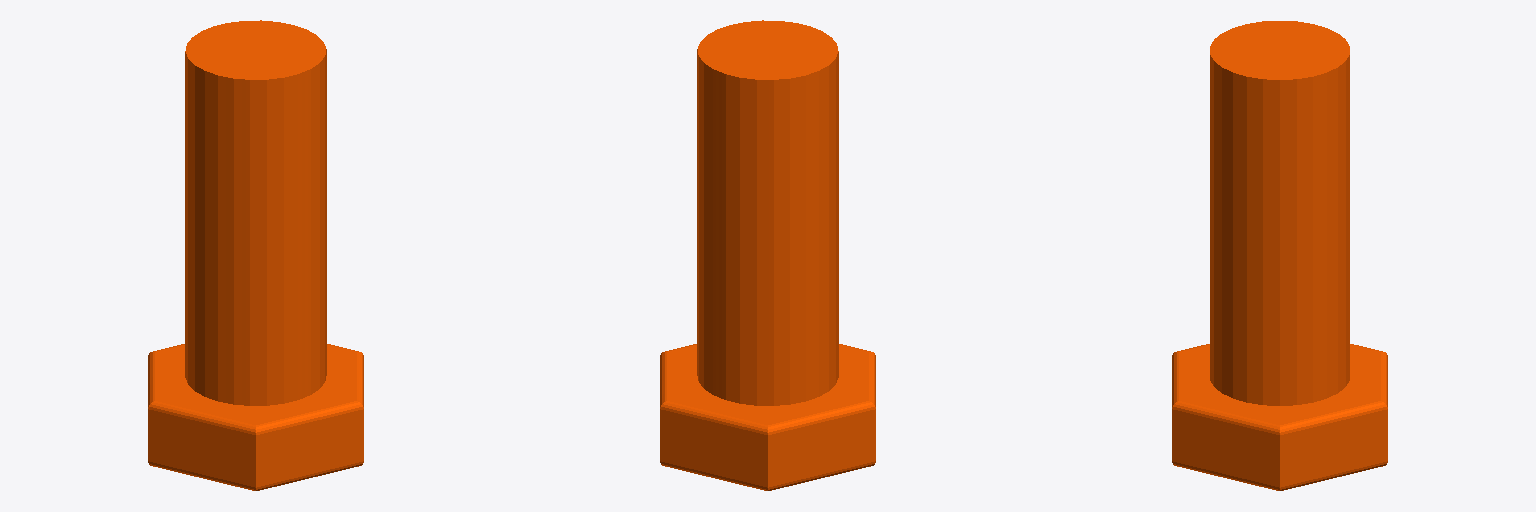
robot.urdf — top_watertight_tiny:
<?xml version="1.0" ?>
<robot name="top_watertight_tiny">
   <material name="obj_color">
      <color rgba="1.0 0.423529411765 0.0392156862745 1.0"/>
   </material>
   <link name="top">
      <inertial>
         <origin rpy="1.250202220857222e-05 0.000275756623334001 0.0002757841522195322" xyz="-3.31938556459921e-06 5.717349415173197e-05 0.01692686433493581"/>
         <mass value="0.1134705295674991"/>
         <inertia ixx="0.0002757838839417146" ixy="-2.586360634905081e-09" ixz="-8.339839366526162e-08" iyy="0.0002757568537542385" iyz="-5.487734447165066e-08" izz="1.250206006615228e-05"/>
      </inertial>
      <visual>
         <origin rpy="0 0 0" xyz="0 0 0"/>
         <geometry>
            <mesh filename="top_watertight_tiny.stl" scale="1 1 1"/>
         </geometry>
         <material name="obj_color"/>
      </visual>
      <collision>
         <origin rpy="0 0 0" xyz="0 0 0"/>
         <geometry>
            <mesh filename="top_watertight_tiny.obj" scale="1 1 1"/>
         </geometry>
      </collision>
   </link>
   <link name="bottom">
      <inertial>
         <origin rpy="0.0002025826276793854 0.001017762609016683 0.001017763250977698" xyz="-3.518152725928599e-19 -7.036305451857197e-19 -0.0432377156911104"/>
         <mass value="0.3932424925688408"/>
         <inertia ixx="0.001017762609016833" ixy="-3.100208399346948e-13" ixz="-9.355533426939436e-22" iyy="0.001017763250977548" iyz="2.579863625825259e-20" izz="0.0002025826276793854"/>
      </inertial>
      <visual>
         <origin rpy="0 0 0" xyz="0 0 0"/>
         <geometry>
            <mesh filename="bottom_watertight_tiny.stl" scale="1 1 1"/>
         </geometry>
         <material name="obj_color"/>
      </visual>
   </link>
   <link name="world"/>
   <joint name="world_to_base" type="fixed">
      <origin xyz="0 0 0"/>
      <axis xyz="0 0 0"/>
      <parent link="world"/>
      <child link="bottom"/>
   </joint>
   <joint name="rotation" type="revolute">
      <origin xyz="0 0 0"/>
      <axis xyz="0 0 -1"/>
      <parent link="bottom"/>
      <child link="top"/>
      <dynamics damping="1.0" friction="1.0"/>
      <limit effort="0.1" velocity="0.1" lower="0" upper="0.001"/>
   </joint>
</robot>

--- Render facts (derived) ---
3 views of the same robot in one strip: view 1: azimuth 30°, elevation 25°; view 2: azimuth 150°, elevation 25°; view 3: azimuth 270°, elevation 25° (orthographic).
Model top_watertight_tiny with 3 links and 2 joints (1 revolute, 1 fixed), rooted at world, posed all joints at 0.
Visible links, largest first — view 1: bottom; view 2: bottom; view 3: bottom.
Boxes of the visible links, left/top/right/bottom form: bottom: left=148, top=20, right=363, bottom=490; bottom: left=660, top=20, right=875, bottom=490; bottom: left=1172, top=21, right=1387, bottom=490.
Size in the robot's own frame: 0.091 by 0.0788 by 0.1577 metres.
1 mesh visuals loaded from 2 distinct referenced files (1 binary STL); not drawn: 1 (reference not matched to a file when rendering).